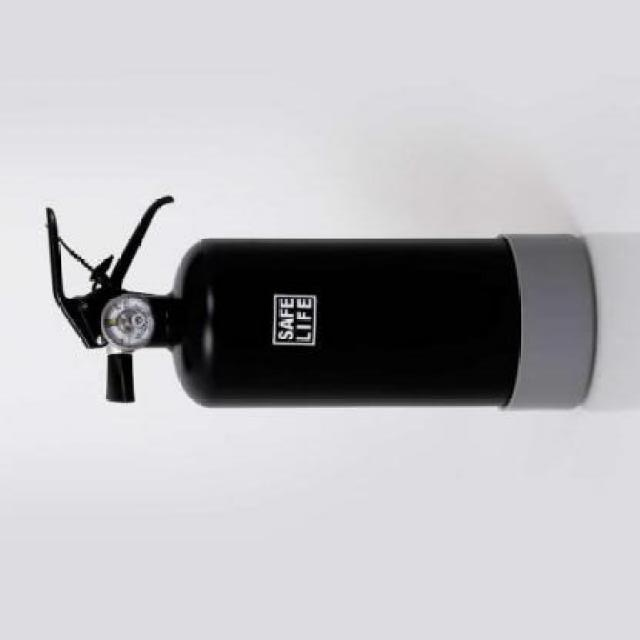fire extinguisher: (45, 197, 598, 412)
